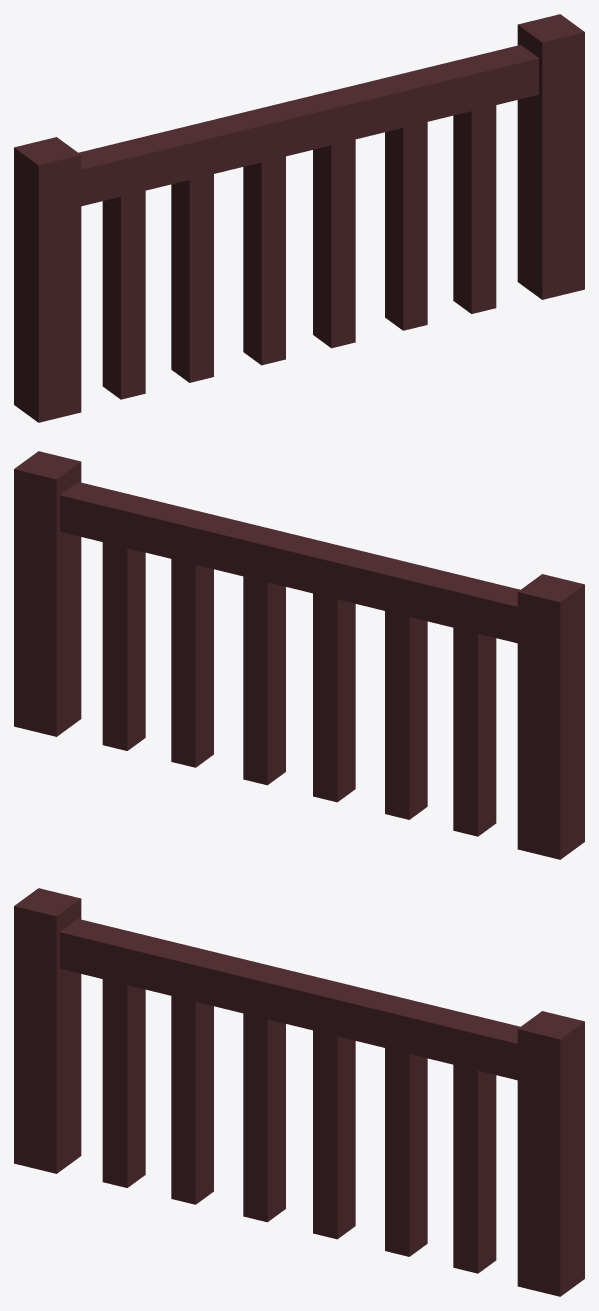
The model's file is SM_Stairs_Rail_1_01.fbx.
3 views of the same model, one above another, from view 1: azimuth 30°, elevation 25°; view 2: azimuth 150°, elevation 25°; view 3: azimuth 330°, elevation 25° (orthographic).
Visible parts, largest first — view 1: SM_Stairs_Rail_1_01; view 2: SM_Stairs_Rail_1_01; view 3: SM_Stairs_Rail_1_01.
Boxes of the visible parts, <box> form: SM_Stairs_Rail_1_01: <box>14,14,584,422</box>; SM_Stairs_Rail_1_01: <box>14,451,584,859</box>; SM_Stairs_Rail_1_01: <box>14,888,584,1296</box>.
Bounding box in the file's own units: 201 × 90.72 × 15.71.
